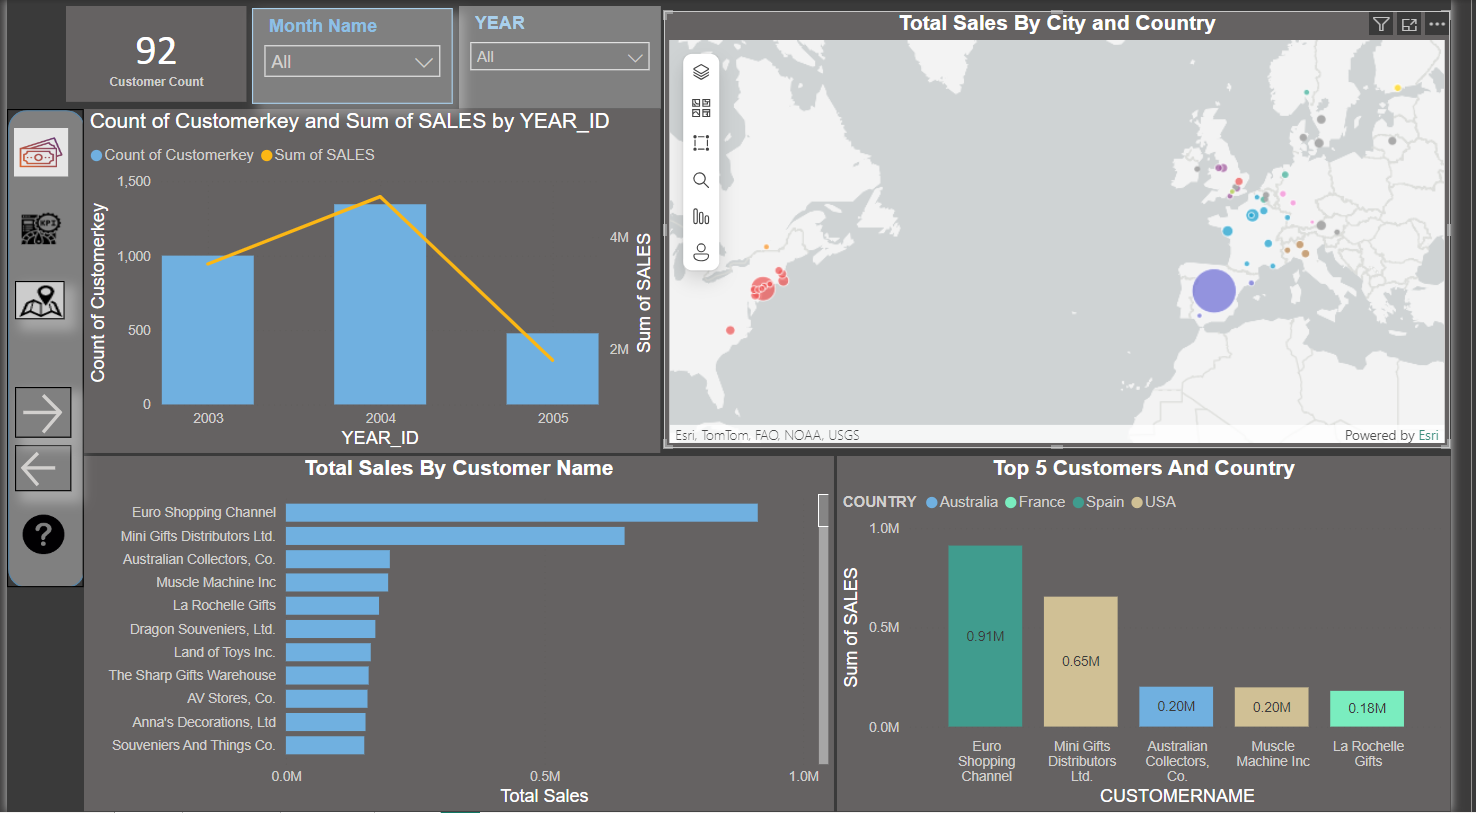

Layout of this report page (visuals, bound fields, positions):
{"tool":"powerbi","page":{"name":"Customer","canvas":[1280,720],"ordinal":2},"visuals":[{"type":"clusteredBarChart","title":"Total Sales By Customer Name","fields":{"Category":["DimCustomer.CUSTOMERNAME"],"Y":["Sales_Fact_table.SALES"]},"box":[68.2,404.7,664.6,315.3],"z":0},{"type":"card","fields":{"Values":["DimCustomer.CUSTOMERNAME"]},"box":[52.5,5.7,160.5,85.2],"z":1000},{"type":"columnChart","title":"Top 5 Customers And Country","fields":{"Category":["DimCustomer.CUSTOMERNAME"],"Y":["Sales_Fact_table.SALES"],"Series":["DimCountry.COUNTRY"]},"box":[735.6,404.7,543.9,315.3],"z":2000},{"type":"shape","box":[0,97,68.2,423.7],"z":3000},{"type":"image","box":[8.8,451.3,46.7,44.7],"z":4000},{"type":"image","box":[7.2,249,44.3,33.5],"z":5000},{"type":"image","box":[6,113.7,47.9,43.1],"z":6000},{"type":"image","box":[8.4,183.7,45.5,38.3],"z":7000},{"type":"actionButton","box":[7.2,395,50.3,40.7],"z":8000},{"type":"actionButton","box":[7.2,343.5,50.3,45.5],"z":9000},{"type":"esriVisual","title":"Total Sales By City and Country","fields":{"Location":["DimCustomer.CITY"],"Color":["DimCountry.COUNTRY"],"Size":["Sales_Fact_table.SALES"]},"box":[582.3,9.9,697.3,387.7],"z":10000},{"type":"slicer","title":"YEAR","fields":{"Values":["Sales_Fact_table.YEAR_ID"]},"box":[400.5,5.7,178.9,90.9],"z":11000},{"type":"lineStackedColumnComboChart","fields":{"Category":["Sales_Fact_table.YEAR_ID"],"Y2":["Sales_Fact_table.SALES"],"Y":["Sales_Fact_table.Customerkey"]},"box":[68.2,96.6,511.2,305.3],"z":12000},{"type":"slicer","title":"YEAR","fields":{"Values":["DAX DateTable.Month Name"]},"box":[217.3,7.1,177.5,85.2],"z":13000}]}

Visuals, with their boxes in screenshot pixels (x1, y1, x2, y2), scaled from the page's 1280x720 canvas onto the 1476x813 screenshot:
"Total Sales By Customer Name" clusteredBarChart: <bbox>79, 457, 845, 812</bbox>
card - DimCustomer.CUSTOMERNAME: <bbox>61, 6, 246, 103</bbox>
"Top 5 Customers And Country" columnChart: <bbox>848, 457, 1475, 812</bbox>
shape: <bbox>0, 110, 79, 588</bbox>
image: <bbox>10, 510, 64, 560</bbox>
image: <bbox>8, 281, 59, 319</bbox>
image: <bbox>7, 128, 62, 177</bbox>
image: <bbox>10, 207, 62, 251</bbox>
actionButton: <bbox>8, 446, 66, 492</bbox>
actionButton: <bbox>8, 388, 66, 439</bbox>
"Total Sales By City and Country" esriVisual: <bbox>671, 11, 1475, 449</bbox>
"YEAR" slicer: <bbox>462, 6, 668, 109</bbox>
lineStackedColumnComboChart - Sales_Fact_table.YEAR_ID x Sales_Fact_table.SALES: <bbox>79, 109, 668, 454</bbox>
"YEAR" slicer: <bbox>251, 8, 455, 104</bbox>
